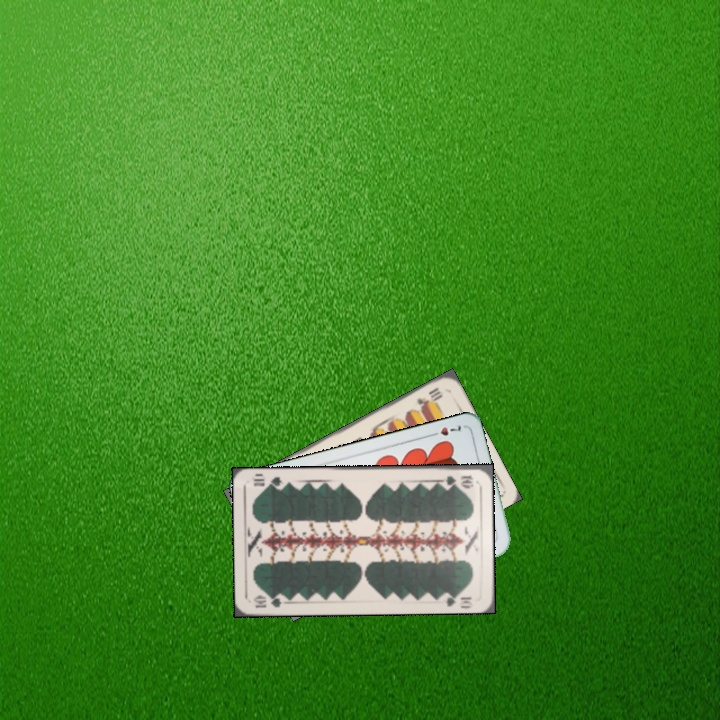E10: (411, 383, 445, 413)
G10: (249, 591, 290, 610), (436, 472, 476, 488)
H7: (426, 421, 465, 439)
